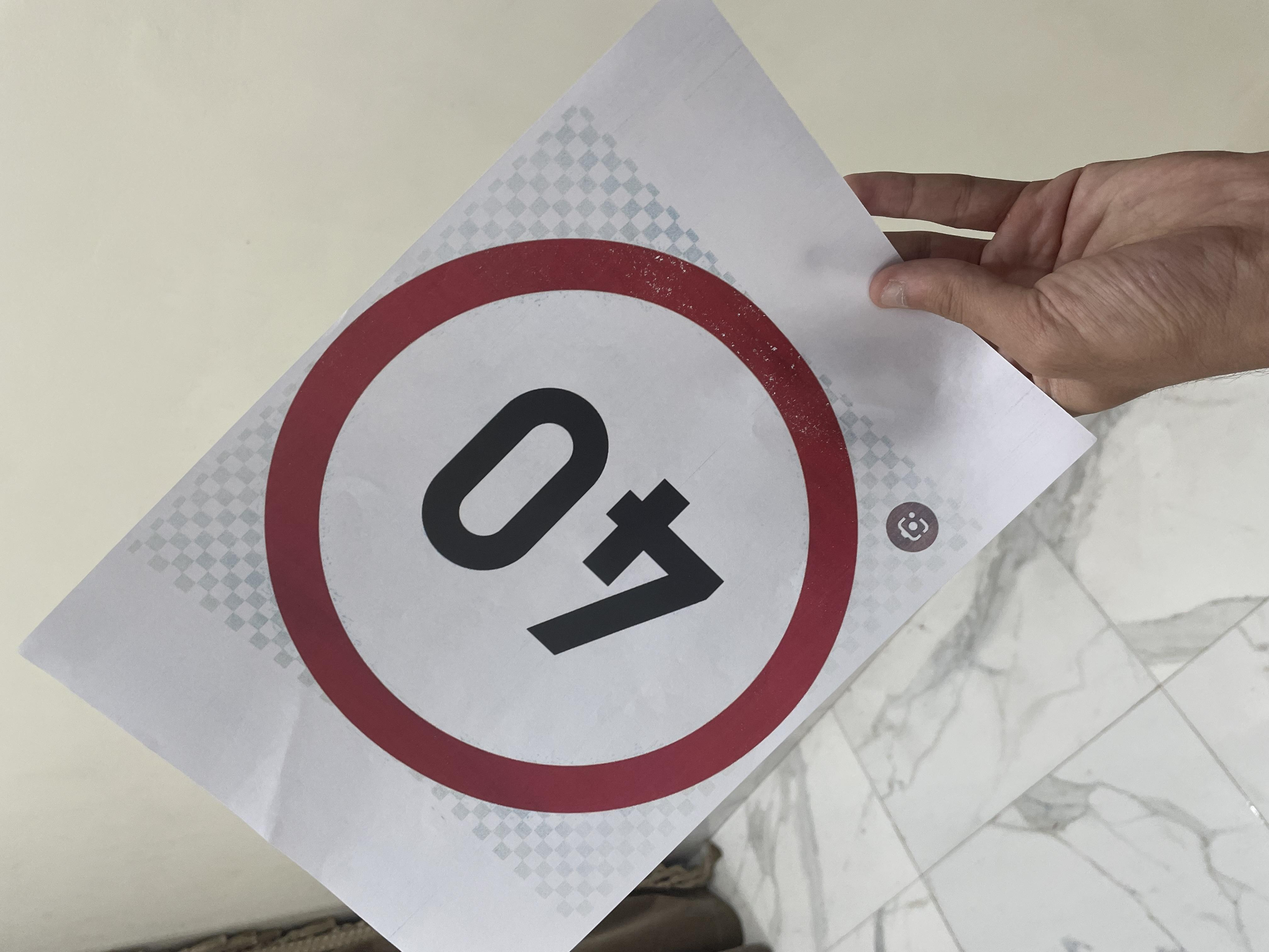40-Speed: (165, 201, 952, 643)
